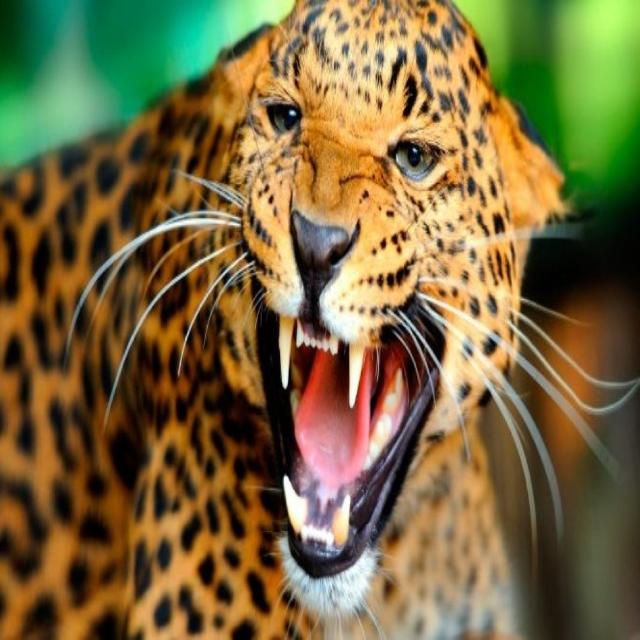Leopard: (1, 0, 551, 640)
